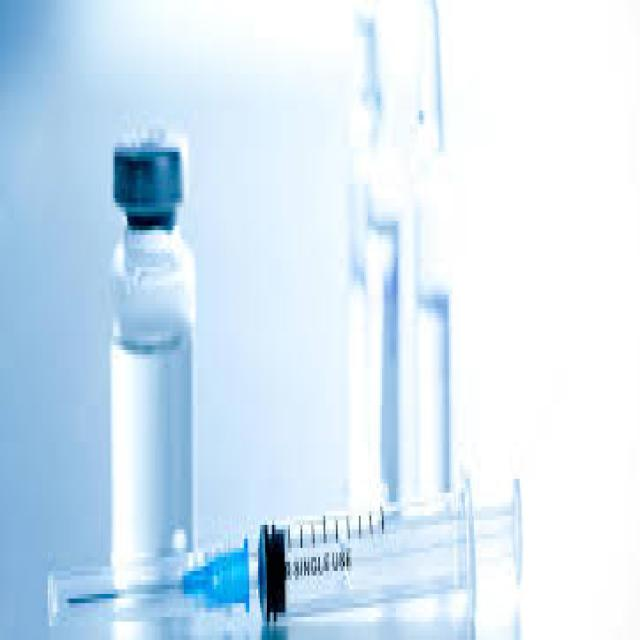syringe: (46, 470, 523, 636)
